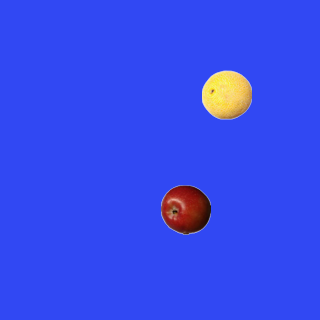Apple Braeburn: (160, 184, 210, 234)
Cantaloupe 1: (201, 69, 251, 119)
